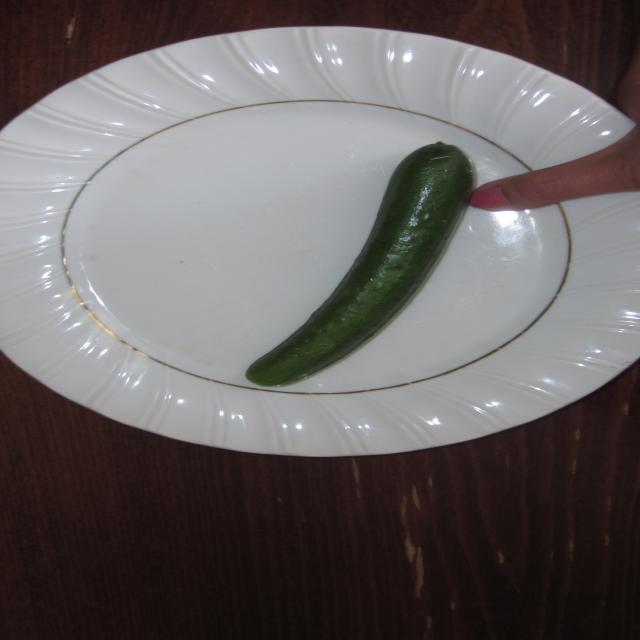cucumber: (232, 131, 480, 386)
